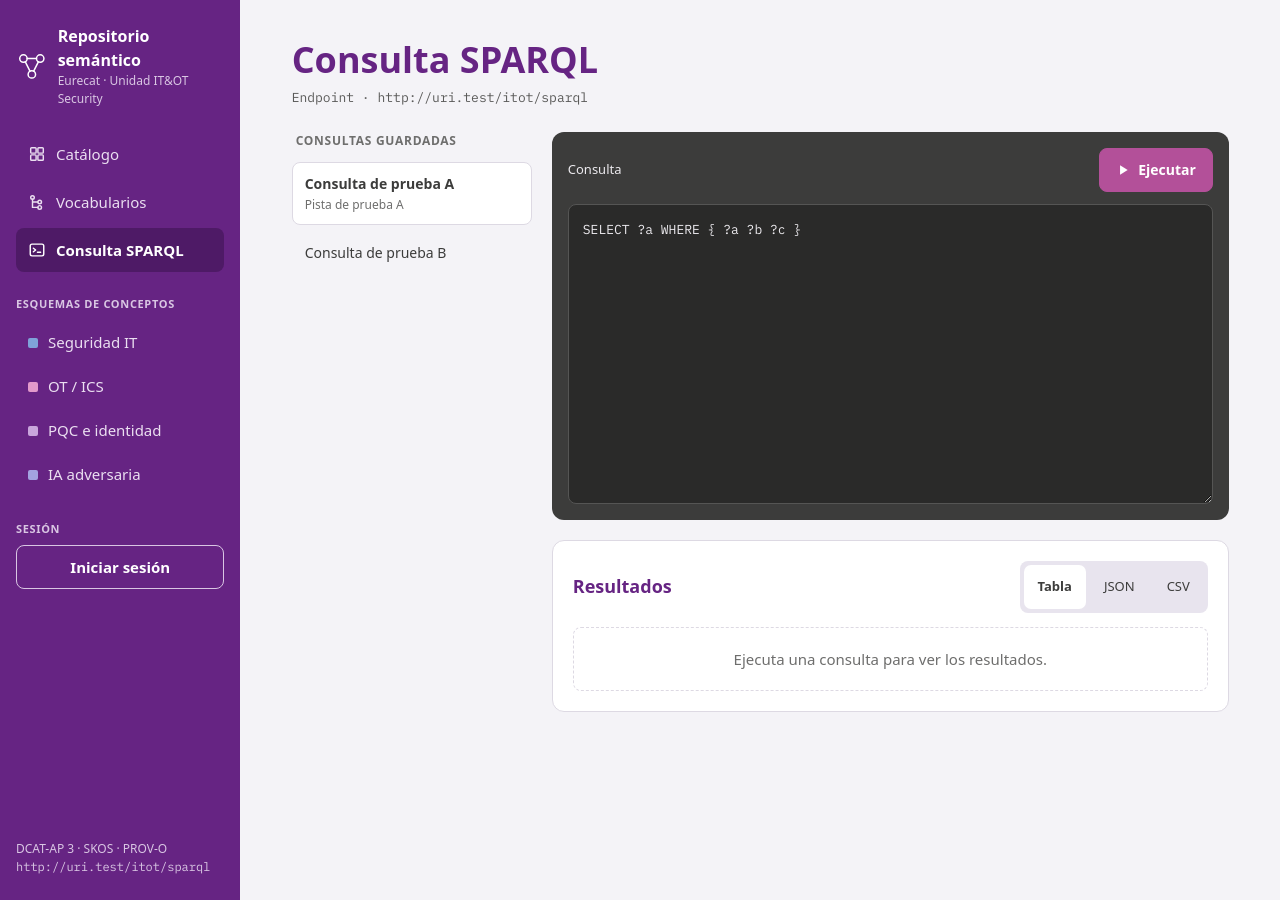
Test case: Consola SPARQL › sin filas muestra el mensaje vacío
expect the button "Consulta de prueba A Pista de prueba A" is shown: met, box [292,162,532,225]
Click the button "Ejecutar". click: (1156, 170)
box: [1099,148,1213,192]
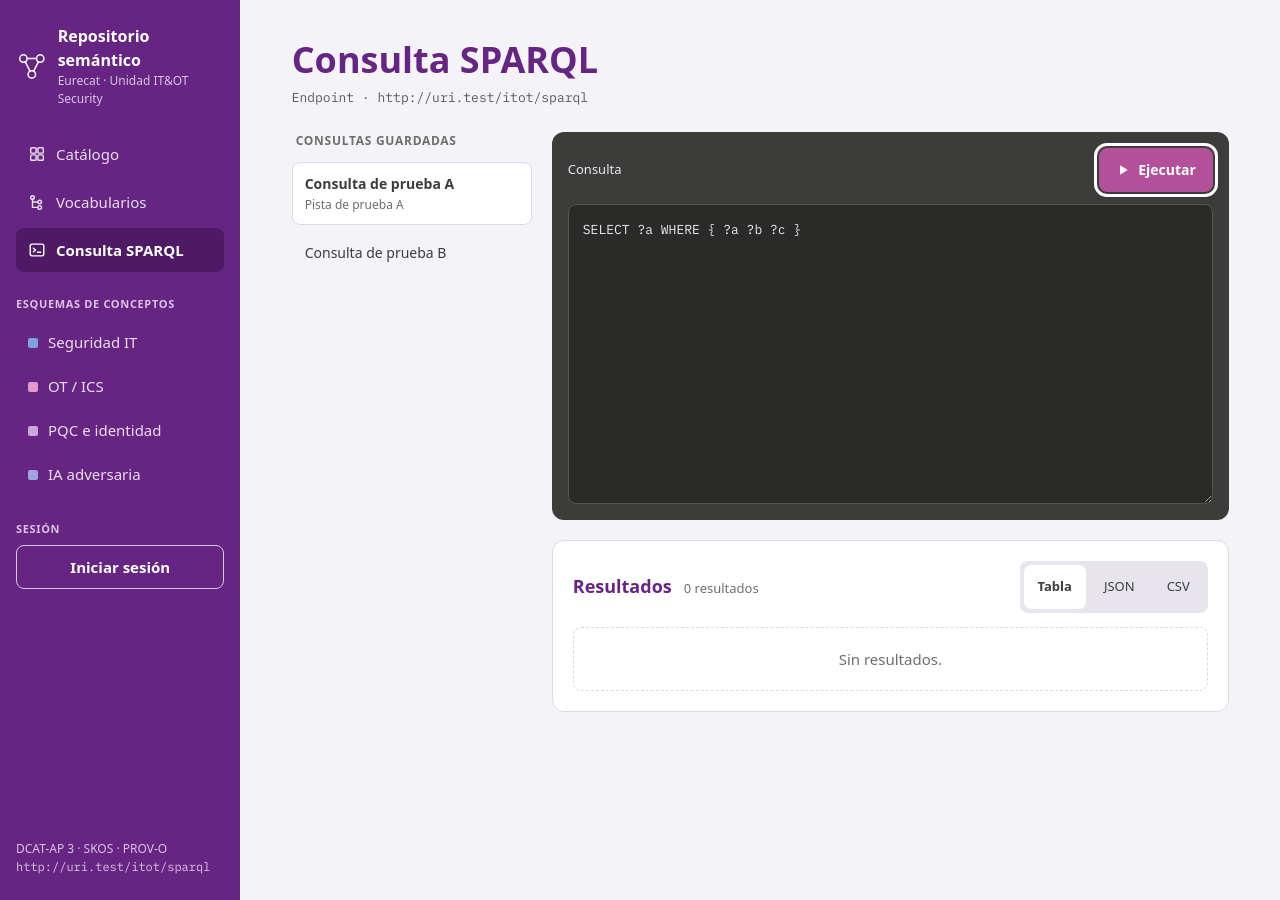
expect the text "Sin resultados." is shown: met, box [573,627,1208,691]
expect the text "0 resultados" is shown: met, box [684,579,759,599]
